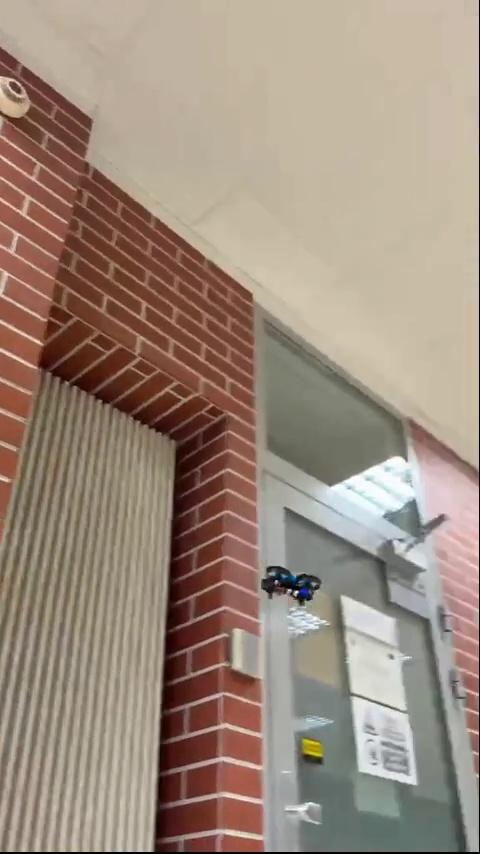drone: (259, 565, 318, 601)
